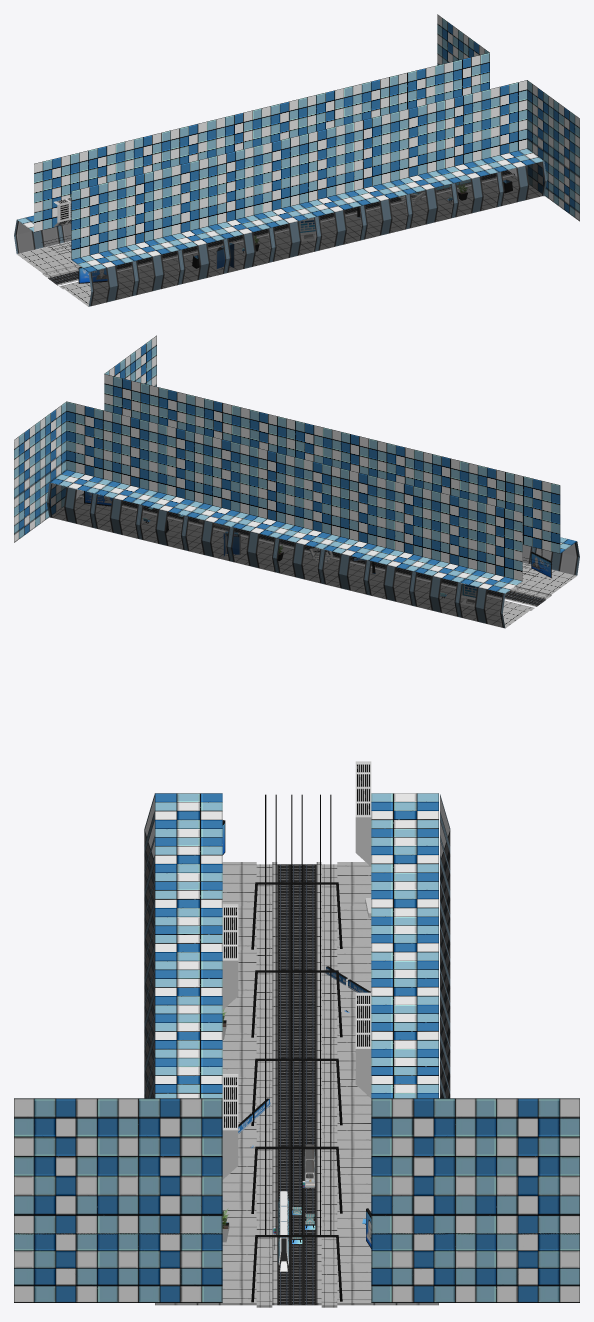
File: subwaysurferstest22.glb
3 views of the same model, one above another, from view 1: azimuth 30°, elevation 25°; view 2: azimuth 150°, elevation 25°; view 3: azimuth 270°, elevation 25° (orthographic). The views are drawn at different scales.
Parts seen in each view (by area): view 1: tiledwall.016, tiledwall, tiledwall.005, tiledwall.018, tiledwall.019, tiledwall.024, tiledwall.006, tiledwall.017, tiledwall.003, tiledwall.023, tiledwall.025, tiledwall.001 (+36 smaller); view 2: tiledwall.013, tiledwall.021, tiledwall.025, tiledwall.009, tiledwall.012, tiledwall.022, tiledwall.020, tiledwall.027, tiledwall.007, tiledwall.026, tiledwall.024, tiledwall.014 (+36 smaller); view 3: tiledwall.002, tiledwall.008, tiledwall.001, tiledwall.014, tiledwall.004, tiledwall.015, tiledwall.011, tiledwall.010, tiledwall.017, tiledwall.018, tiledwall.019, tiledwall.020 (+33 smaller).
Boxes of the visible parts, x1=… form: tiledwall.016: x1=162, y1=158, x2=224, y2=249; tiledwall: x1=481, y1=80, x2=543, y2=171; tiledwall.005: x1=390, y1=102, x2=452, y2=194; tiledwall.018: x1=253, y1=136, x2=316, y2=227; tiledwall.019: x1=208, y1=147, x2=270, y2=238; tiledwall.024: x1=71, y1=180, x2=133, y2=272; tiledwall.006: x1=345, y1=113, x2=407, y2=205; tiledwall.017: x1=299, y1=124, x2=361, y2=216; tiledwall.003: x1=436, y1=91, x2=498, y2=183; tiledwall.023: x1=117, y1=169, x2=179, y2=260; tiledwall.025: x1=17, y1=152, x2=79, y2=232; tiledwall.001: x1=527, y1=80, x2=553, y2=167; tiledwall.013: x1=50, y1=401, x2=112, y2=493; tiledwall.021: x1=278, y1=457, x2=340, y2=548; tiledwall.025: x1=460, y1=501, x2=522, y2=593; tiledwall.009: x1=141, y1=423, x2=203, y2=515; tiledwall.012: x1=95, y1=412, x2=157, y2=504; tiledwall.022: x1=232, y1=446, x2=294, y2=537; tiledwall.020: x1=323, y1=468, x2=385, y2=560; tiledwall.027: x1=369, y1=479, x2=431, y2=571; tiledwall.007: x1=187, y1=435, x2=248, y2=526; tiledwall.026: x1=415, y1=490, x2=476, y2=582; tiledwall.024: x1=514, y1=474, x2=576, y2=553; tiledwall.014: x1=40, y1=401, x2=66, y2=488; tiledwall.002: x1=14, y1=1098, x2=118, y2=1234; tiledwall.008: x1=475, y1=1098, x2=579, y2=1234; tiledwall.001: x1=118, y1=1098, x2=222, y2=1234; tiledwall.014: x1=371, y1=1098, x2=475, y2=1234; tiledwall.004: x1=118, y1=1233, x2=222, y2=1302; tiledwall.015: x1=371, y1=1233, x2=475, y2=1302; tiledwall.011: x1=475, y1=1233, x2=579, y2=1302; tiledwall.010: x1=14, y1=1233, x2=118, y2=1302; tiledwall.017: x1=155, y1=1013, x2=222, y2=1057; tiledwall.018: x1=155, y1=969, x2=222, y2=1013; tiledwall.019: x1=155, y1=925, x2=222, y2=969; tiledwall.020: x1=371, y1=925, x2=438, y2=969.
Size of the model in its own units: 403 by 88.5 by 217.
Materials: 3 (3 with a texture image).
